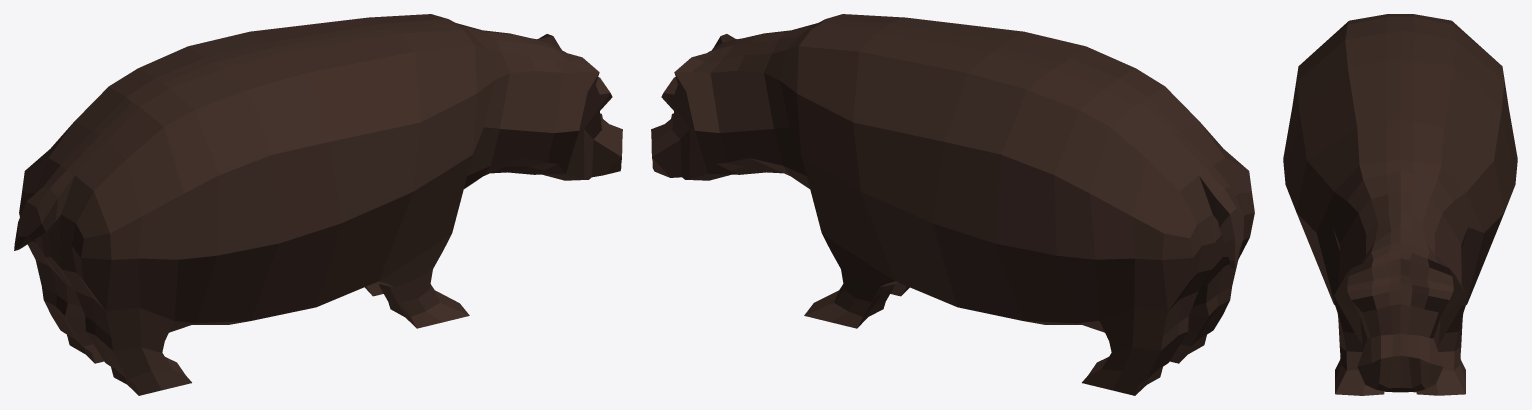
Rendered from hippo.glb.
3 renders of one model, left to right at view 1: azimuth 30°, elevation 25°; view 2: azimuth 150°, elevation 25°; view 3: azimuth 270°, elevation 25°, orthographic. The views are drawn at different scales.
Parts seen in each view (by area): view 1: Hippo_0; view 2: Hippo_0; view 3: Hippo_0.
Boxes of the visible parts, bbox=[...] form: Hippo_0: bbox=[14, 14, 622, 395]; Hippo_0: bbox=[651, 14, 1254, 395]; Hippo_0: bbox=[1283, 14, 1517, 395].
Size of the model in its own units: 1.77 by 0.8136 by 0.6594.
